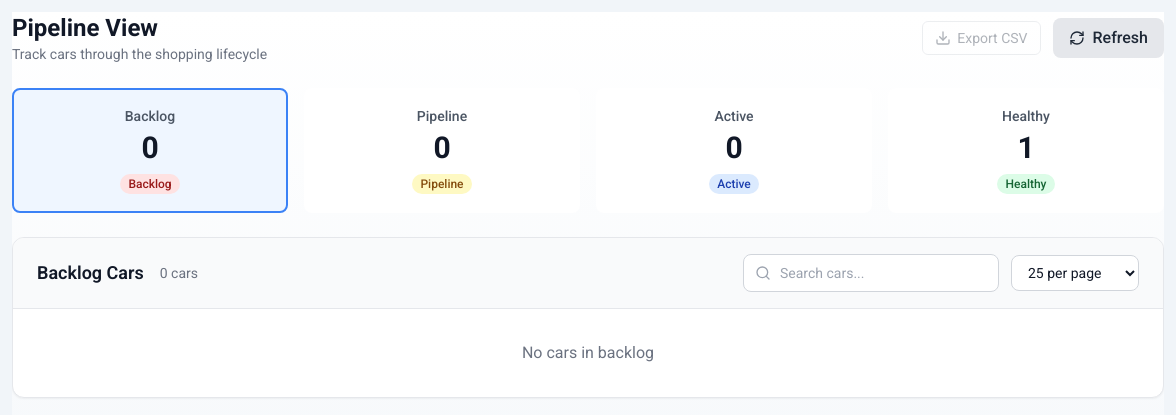
Test: PipelinePage › switches to healthy tab and shows Last Shopped column
Click the 1st text "Healthy" at (1026, 116), box [1002,108,1050,124]
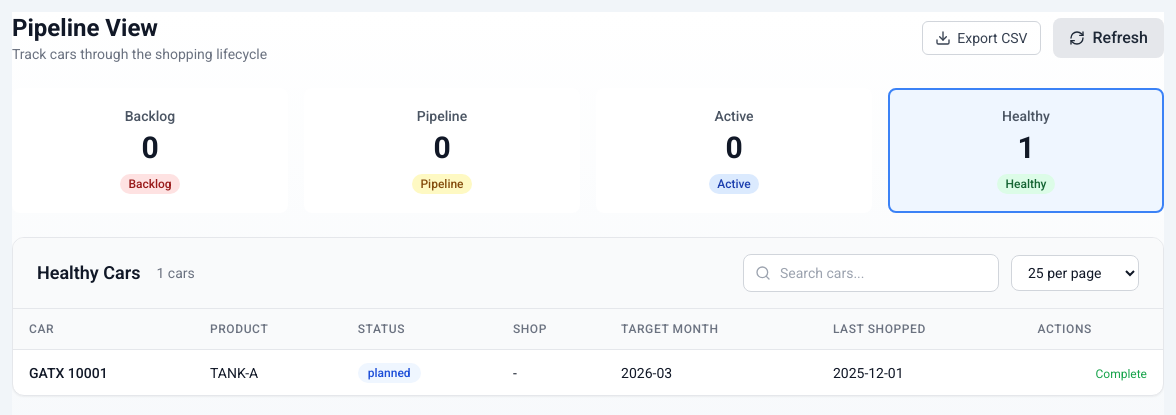
Now the column heading "Last Shopped" is shown, box [817,309,1021,350]
Now the text "2025-12-01" is shown, box [817,350,1021,395]
Now the text "Complete" is shown, box [1096,366,1147,380]
